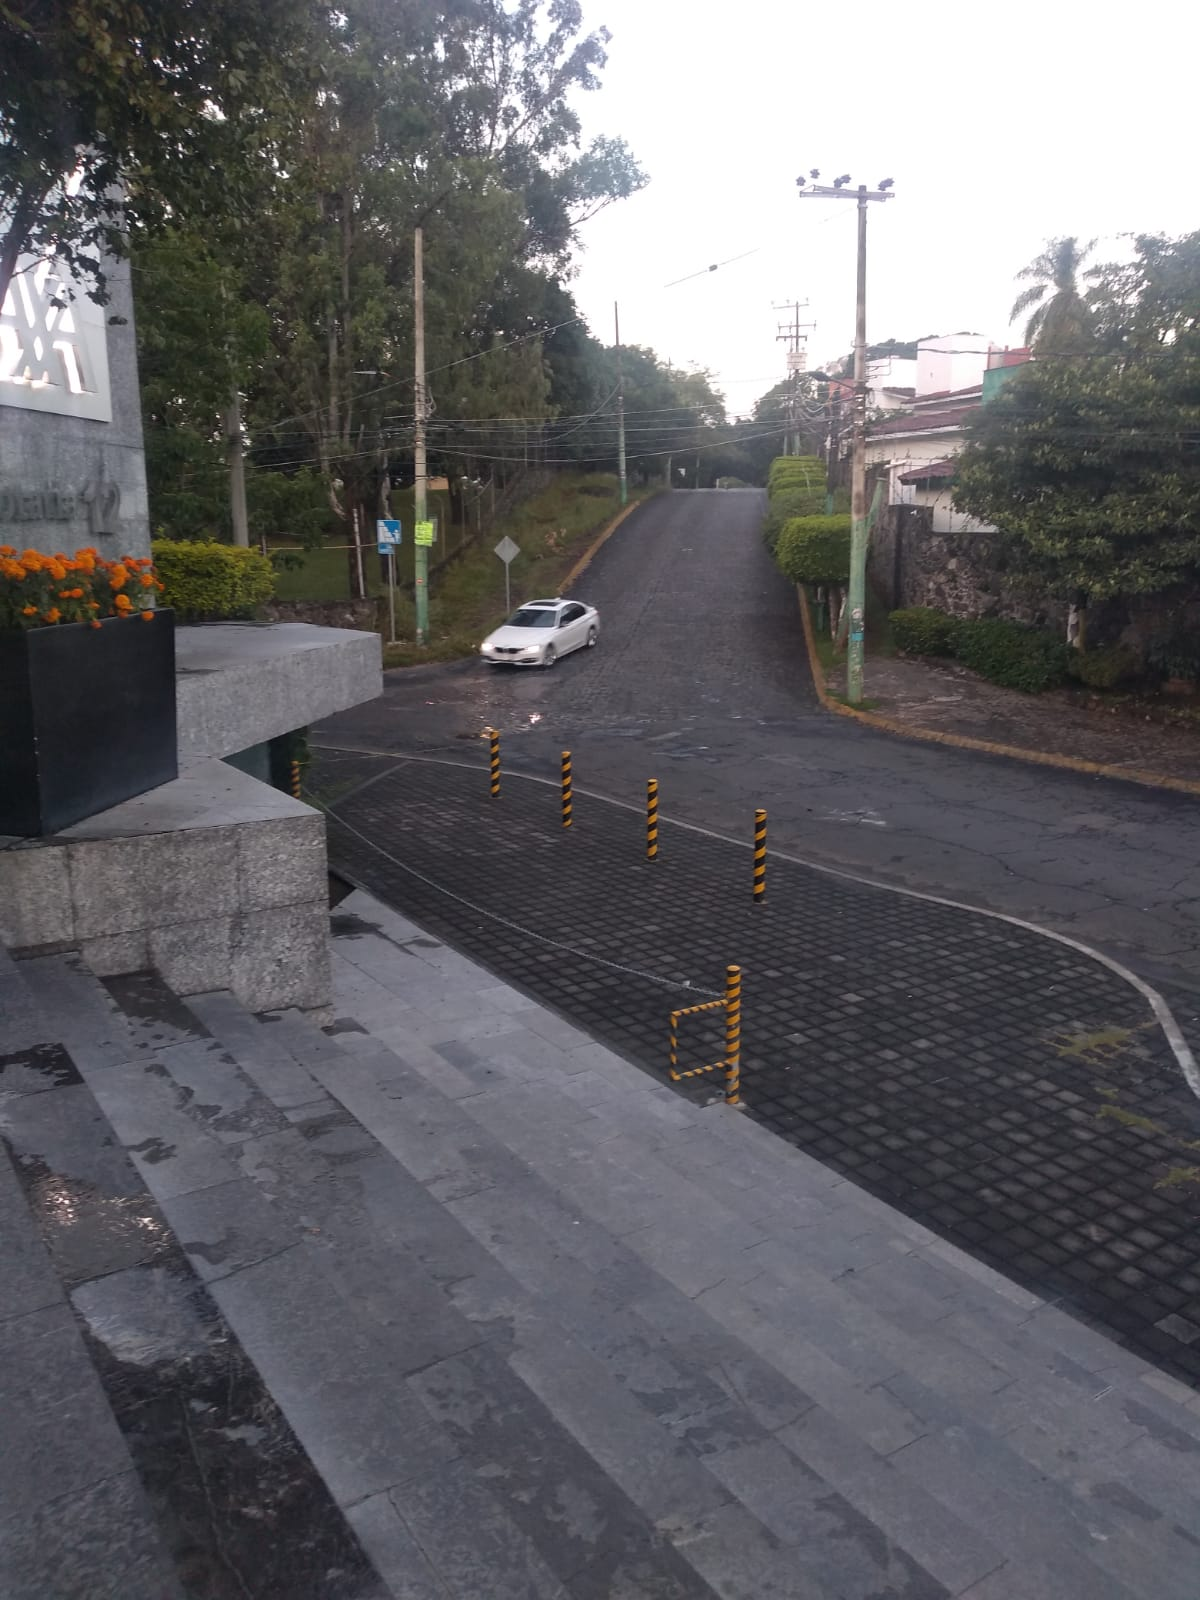Auto: (485, 590, 608, 677)
